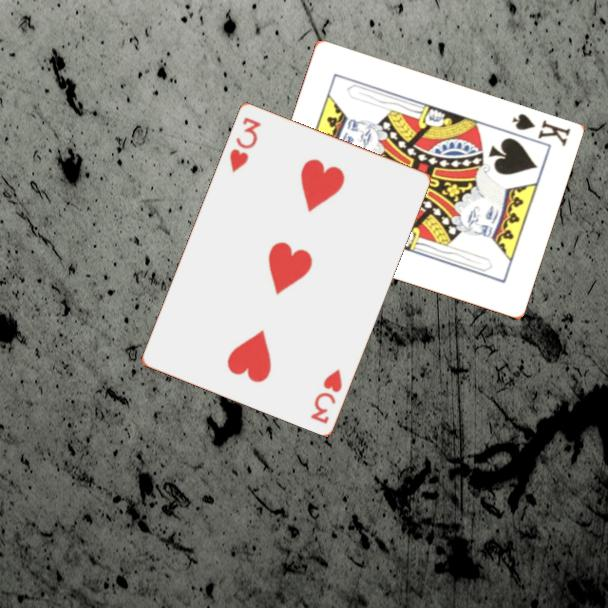h03: (306, 365, 345, 426), (226, 113, 264, 175)
s13: (508, 110, 573, 149)
